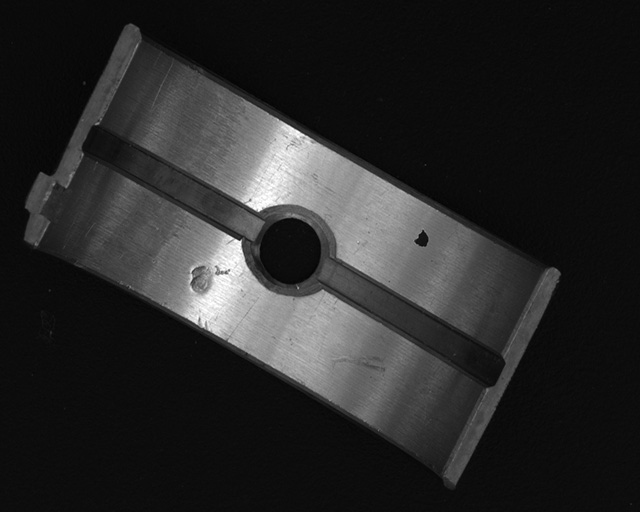blot: (414, 229, 429, 248)
bruise: (189, 263, 232, 296)
gap: (324, 259, 501, 386), (86, 127, 261, 238)
hole: (249, 206, 329, 295)
nick: (329, 354, 387, 374)
